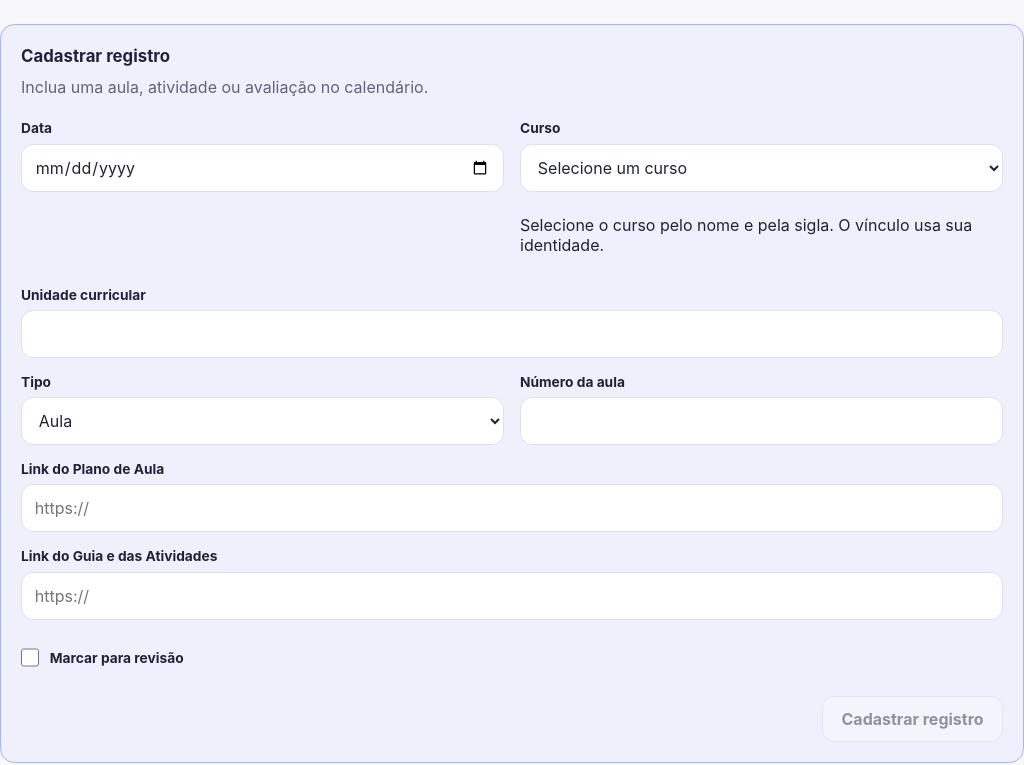
it: gravação de aulas com curso personalizado › falha inesperada não revela detalhes nem limpa o preenchimento
The width and height of the screenshot is (1024, 765).
In the date field labelled "Data": point(262, 168) [21, 144, 504, 192], type "2026-10-25"
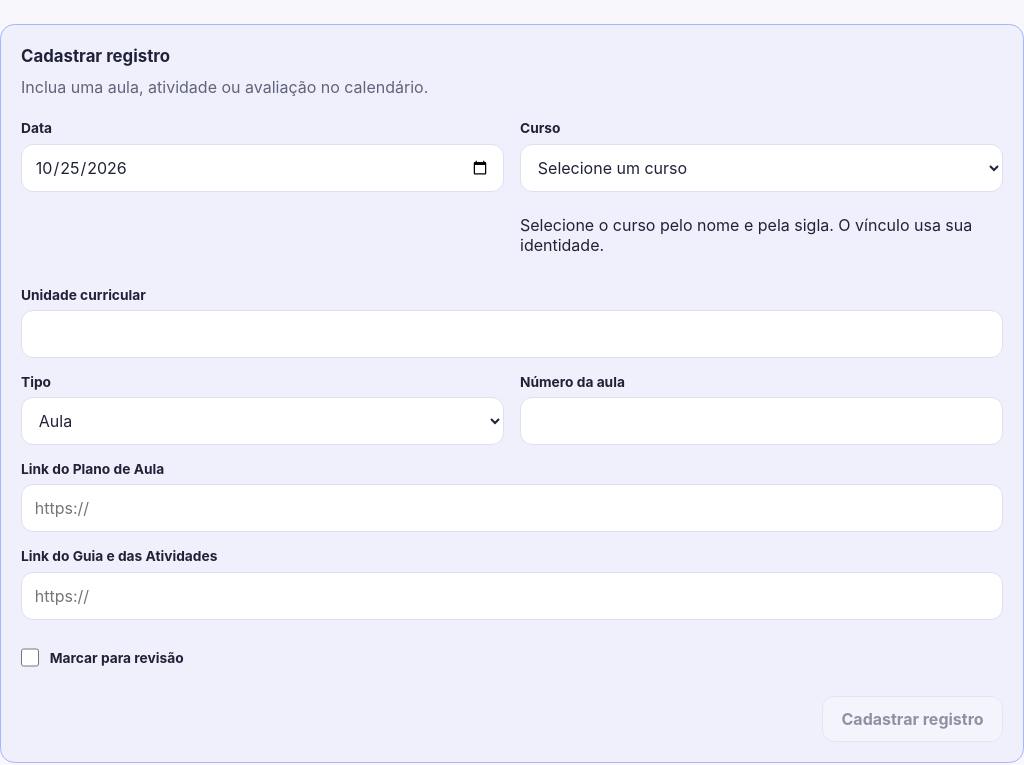
Select "CD — Ciência de Dados" in the dropdown labelled "Curso": point(762, 168) [520, 144, 1003, 192]
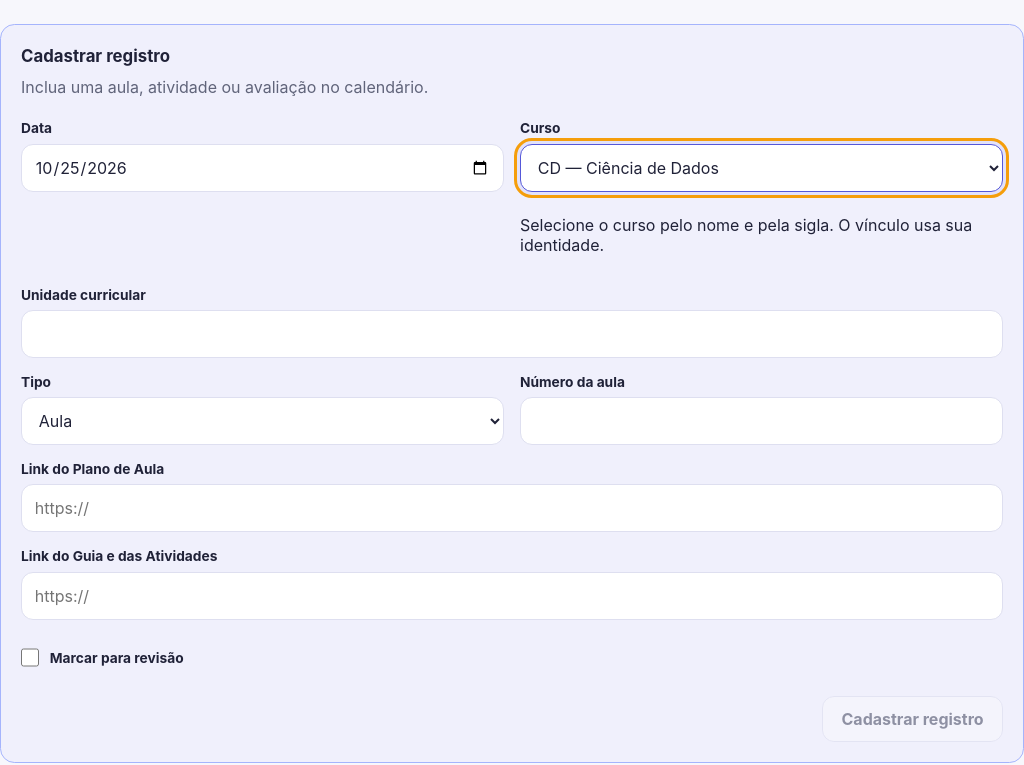
In the field labelled "Unidade curricular": point(512, 334) [21, 310, 1003, 358], type "Qualidade de Software"
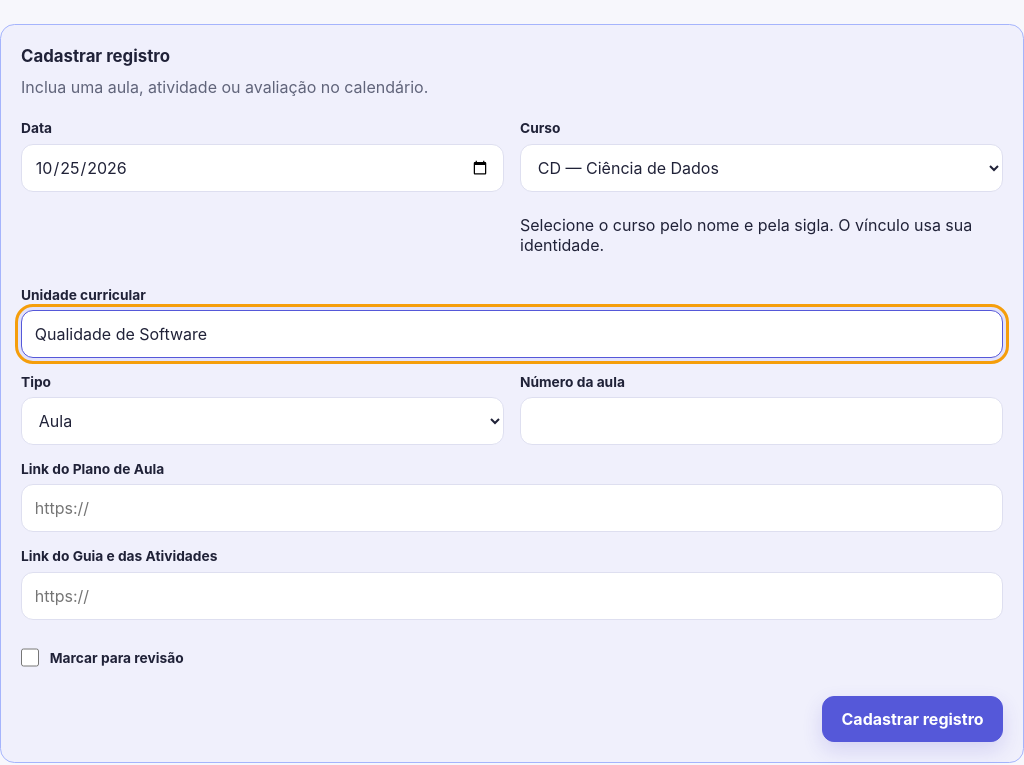
Click the button "Cadastrar registro": point(913, 719) [822, 696, 1003, 742]
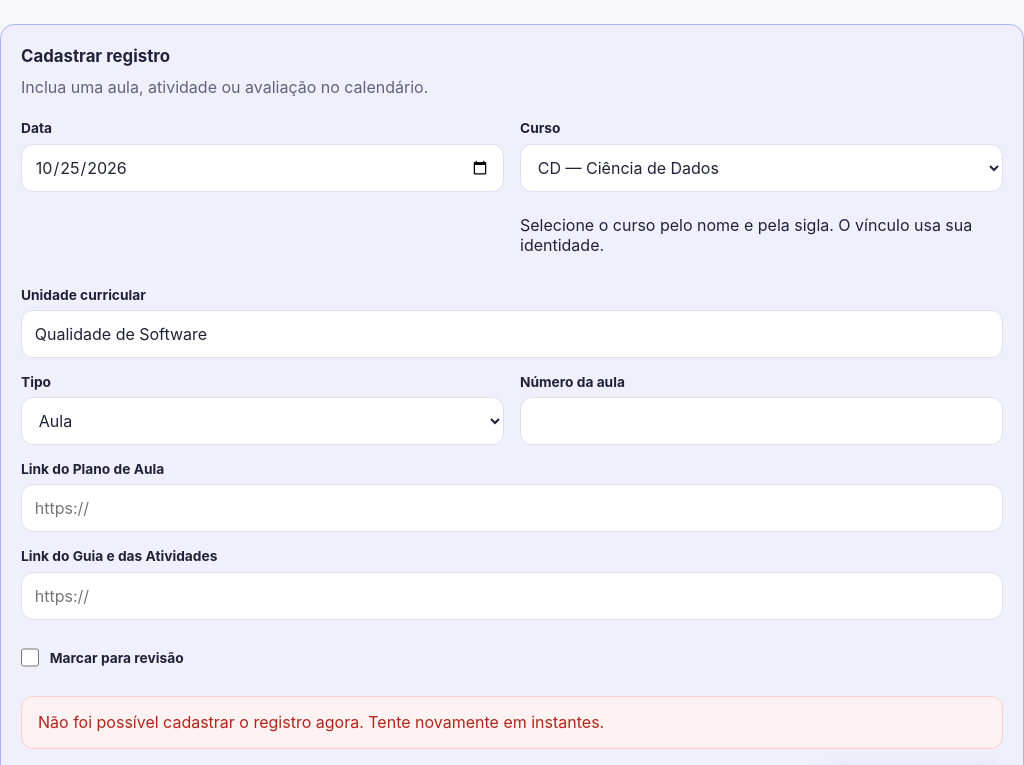
Result: the message reads "Não foi possível cadastrar o registro agora. Tente novamente em instantes." at [38, 712, 604, 732]
